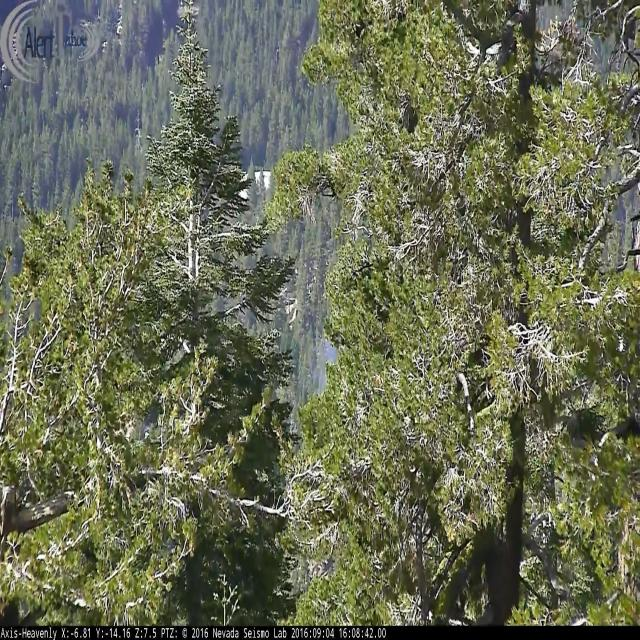smoke: (317, 337, 340, 391)
